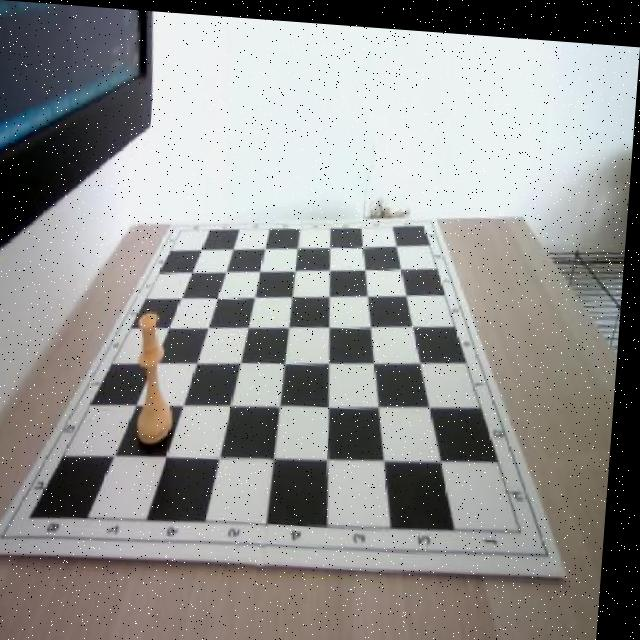white-pawn: (136, 308, 187, 446)
